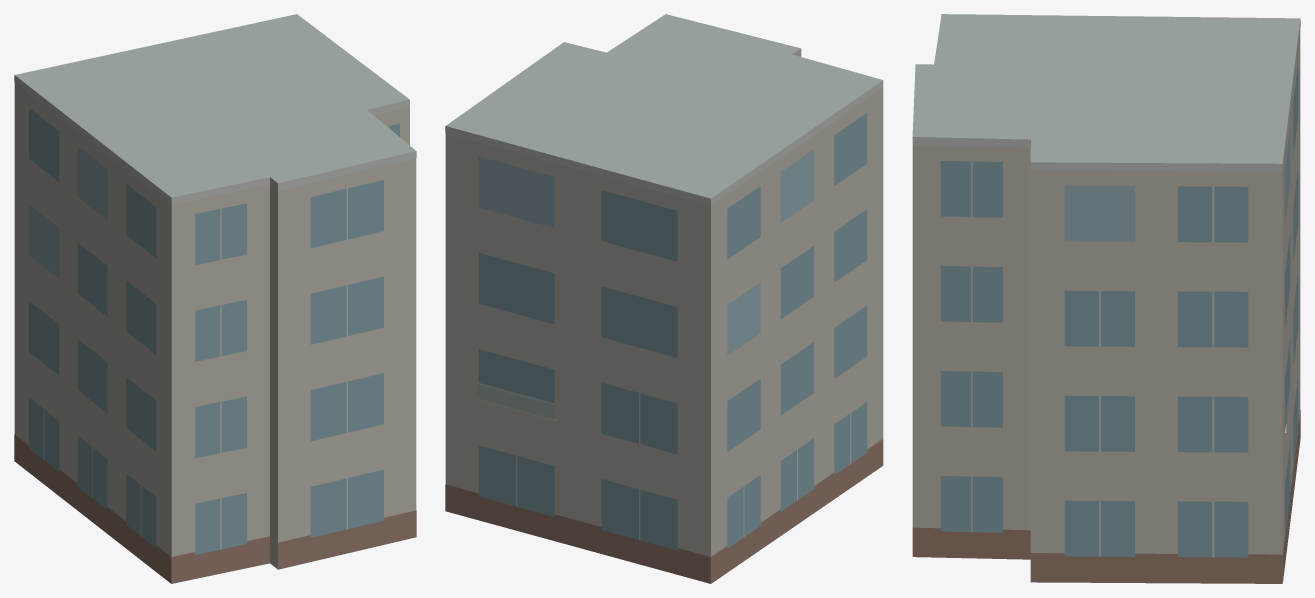
File: survey-upis-33020768.glb
3 views of the same model, side by side, from view 1: azimuth 30°, elevation 25°; view 2: azimuth 150°, elevation 25°; view 3: azimuth 270°, elevation 25° (orthographic). The views are drawn at different scales.
Parts seen in each view (by area): view 1: survey-upis-33020768.tmp; view 2: survey-upis-33020768.tmp; view 3: survey-upis-33020768.tmp.
Part boxes in pixels (box(x1,y1,x2,y2)): survey-upis-33020768.tmp: box(14, 14, 416, 583); survey-upis-33020768.tmp: box(445, 14, 883, 583); survey-upis-33020768.tmp: box(912, 14, 1300, 583).
Bounding box in the file's own units: 9.8 × 12.8 × 10.72.
